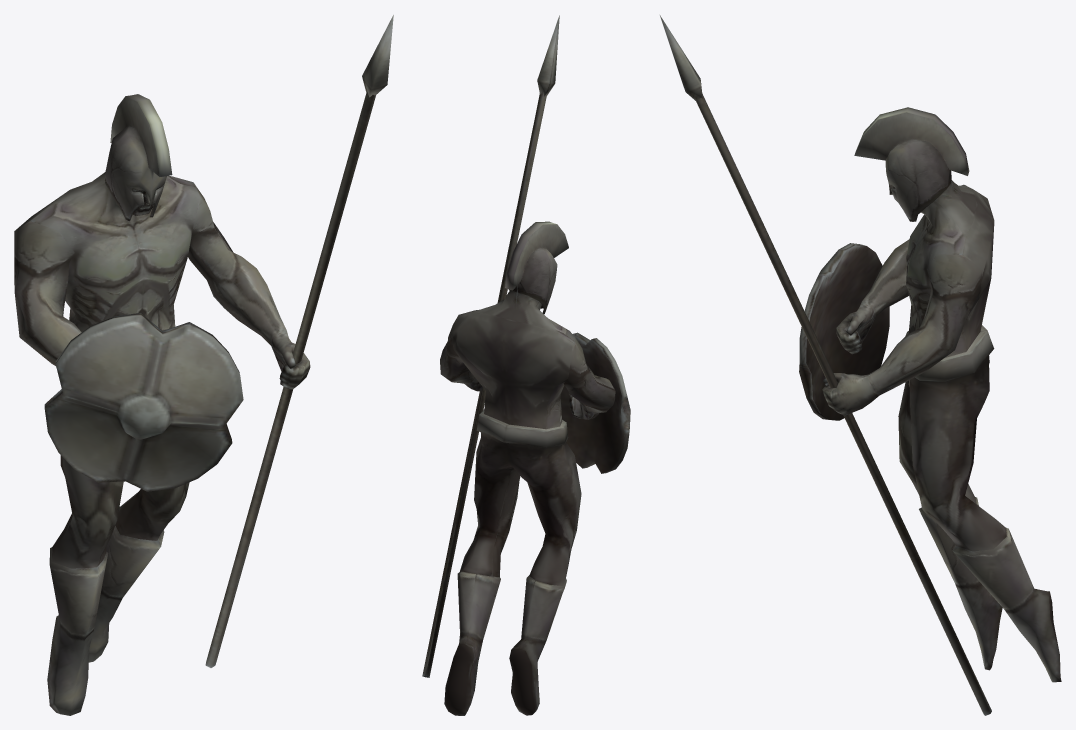
File: GY_diaosu007.fbx
The picture shows the model from 3 angles, left to right: view 1: azimuth 30°, elevation 25°; view 2: azimuth 150°, elevation 25°; view 3: azimuth 270°, elevation 25°; orthographic projection. The views are drawn at different scales.
Visible parts, largest first — view 1: GY_diaosu007; view 2: GY_diaosu007; view 3: GY_diaosu007.
Part boxes in pixels (left/top/right/bottom): GY_diaosu007: left=14, top=15, right=393, bottom=715; GY_diaosu007: left=422, top=15, right=630, bottom=715; GY_diaosu007: left=660, top=15, right=1061, bottom=715.
Bounding box in the file's own units: 80.31 × 256 × 131.
